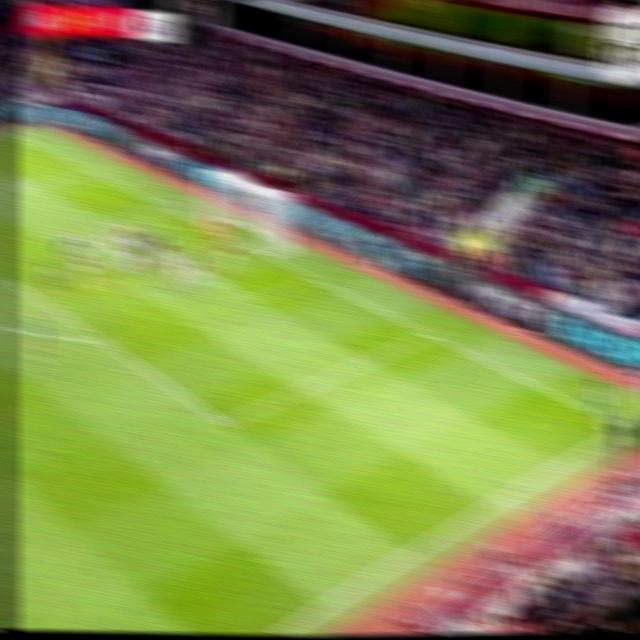bigarea_bottom_inner: (209, 406, 240, 436)
bigarea_bottom_outter: (415, 323, 442, 344)
bigarea_top_outter: (81, 163, 104, 179)
bottom_arc_area_intersection: (84, 325, 111, 350)
corner: (4, 126, 26, 140)
smallarea_bottom_inner: (242, 286, 269, 310)
smallarea_bottom_outter: (302, 268, 326, 287)
smallarea_top_inner: (98, 211, 121, 230)
smallarea_top_outter: (152, 196, 177, 215)
